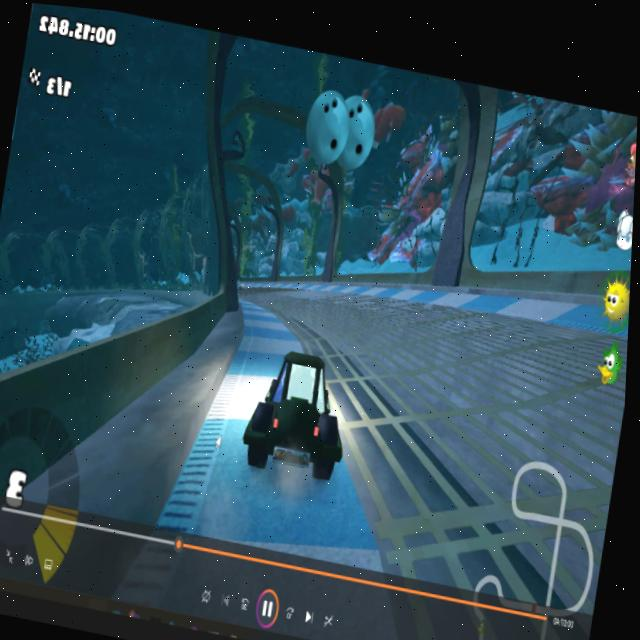player_kart: (242, 337, 355, 490)
track: (290, 271, 537, 380), (242, 269, 296, 303)
